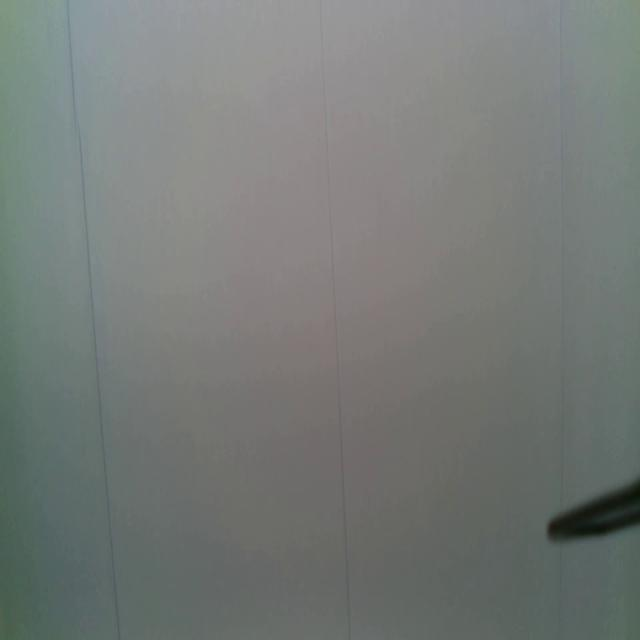crease: (68, 0, 122, 640), (318, 0, 354, 640), (556, 0, 569, 516), (554, 545, 566, 640)
